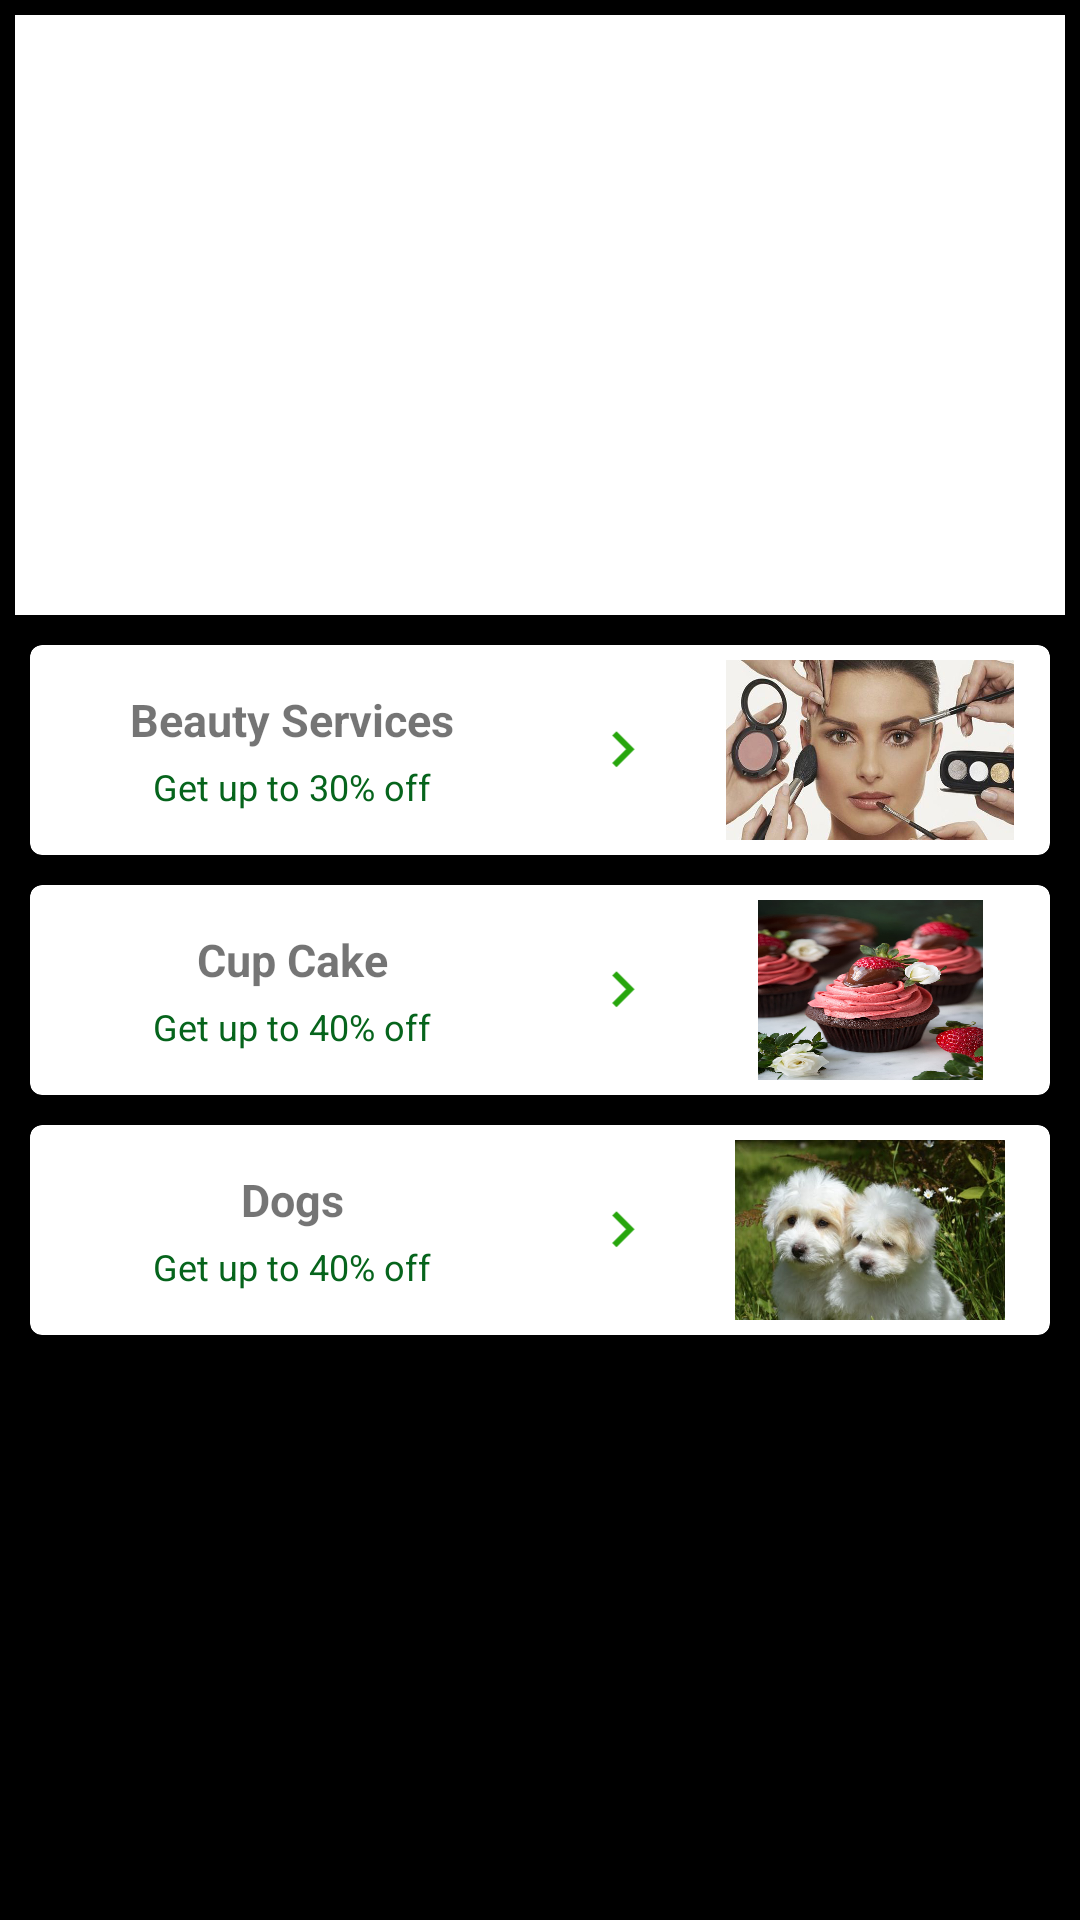

Named icons in this screenshot (1080px×1920px) and their bounding boxes, (x1, y1, x2, y2):
cupcake: (758, 900, 983, 1080)
dogs: (735, 1140, 1005, 1320)
keyboard arrow right: (612, 731, 635, 767), (612, 971, 635, 1007), (612, 1211, 635, 1247)
